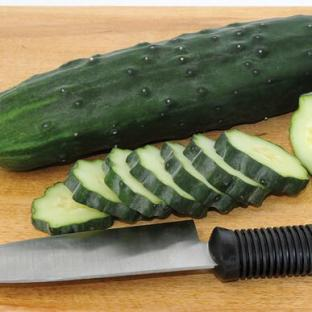Cucumber: (0, 16, 311, 170), (184, 135, 270, 205), (215, 130, 309, 194), (127, 146, 207, 217), (162, 142, 237, 212), (65, 160, 141, 222), (105, 148, 171, 217), (32, 184, 113, 234), (291, 93, 311, 174)
